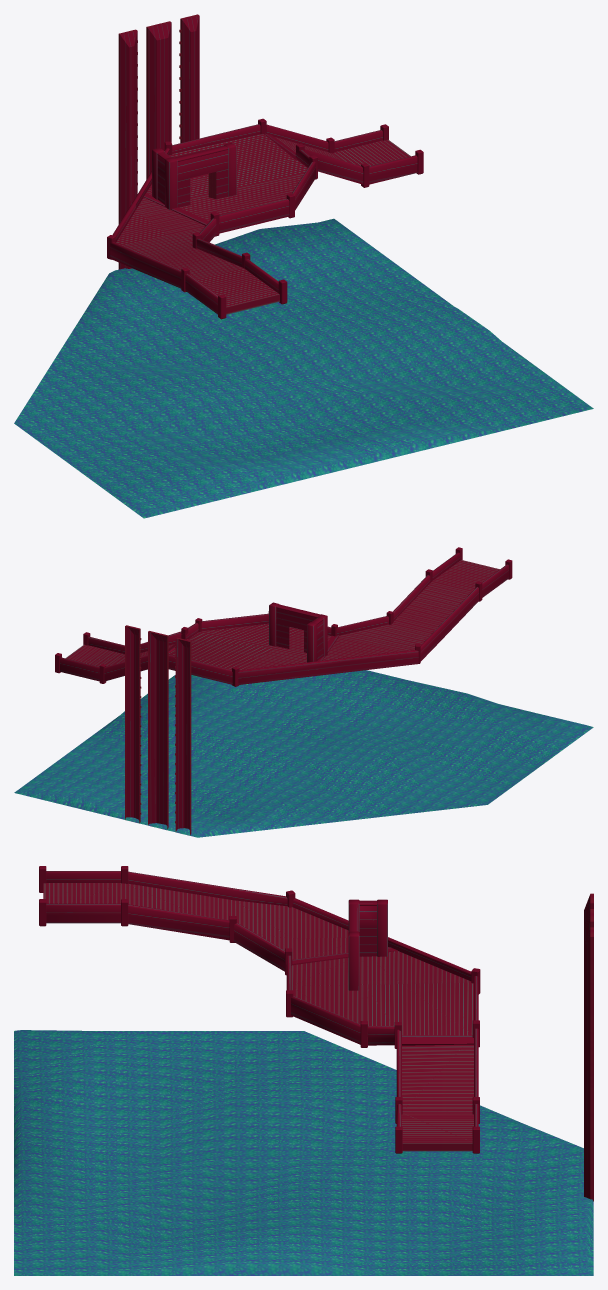
The model's file is Forest_updates.fbx.
The picture shows the model from 3 angles, top to bottom: view 1: azimuth 30°, elevation 25°; view 2: azimuth 150°, elevation 25°; view 3: azimuth 270°, elevation 25°; orthographic projection. The views are drawn at different scales.
Visible parts, largest first — view 1: Forest_floor_moss, Forest_floor, Forest_moving_platform, Forest_hiding; view 2: Forest_floor_moss, Forest_floor, Forest_moving_platform, Forest_hiding; view 3: Forest_floor_moss, Forest_floor, Forest_moving_platform, Forest_hiding.
Boxes of the visible parts, box(x1,y1,x2,y2) form: Forest_floor_moss: box(14, 218, 593, 518); Forest_floor: box(107, 118, 423, 319); Forest_moving_platform: box(118, 14, 199, 269); Forest_hiding: box(152, 142, 236, 209); Forest_floor_moss: box(14, 670, 593, 837); Forest_floor: box(55, 547, 512, 686); Forest_moving_platform: box(125, 625, 191, 835); Forest_hiding: box(269, 602, 327, 662); Forest_floor_moss: box(14, 1030, 593, 1275); Forest_floor: box(39, 866, 480, 1153); Forest_moving_platform: box(584, 893, 593, 1201); Forest_hiding: box(348, 899, 387, 990).
Bounding box in the file's own units: 1565 × 812 × 1563.
Materials: 1 (1 with a texture image).
